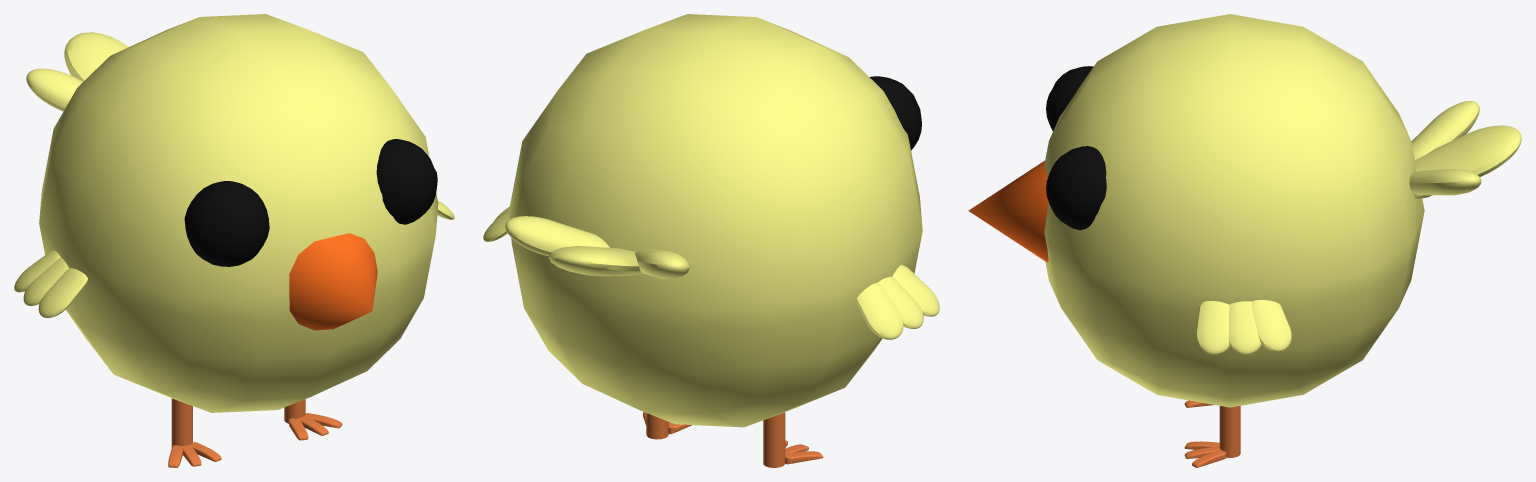
File: Chick.fbx
3 views of the same model, side by side, from view 1: azimuth 30°, elevation 25°; view 2: azimuth 150°, elevation 25°; view 3: azimuth 270°, elevation 25° (orthographic). The views are drawn at different scales.
Parts seen in each view (by area): view 1: Chick.001; view 2: Chick.001; view 3: Chick.001.
Part boxes in pixels (x1=…): Chick.001: x1=14, y1=14, x2=454, y2=467; Chick.001: x1=483, y1=14, x2=939, y2=467; Chick.001: x1=968, y1=14, x2=1521, y2=467.
Size of the model in its own units: 100 by 93.37 by 119.
Materials: 1 (1 with a texture image).
